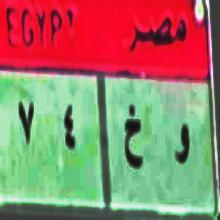4: (62, 99, 78, 157)
7: (16, 92, 36, 156)
khaa: (121, 102, 144, 176)
waw: (170, 108, 191, 174)
